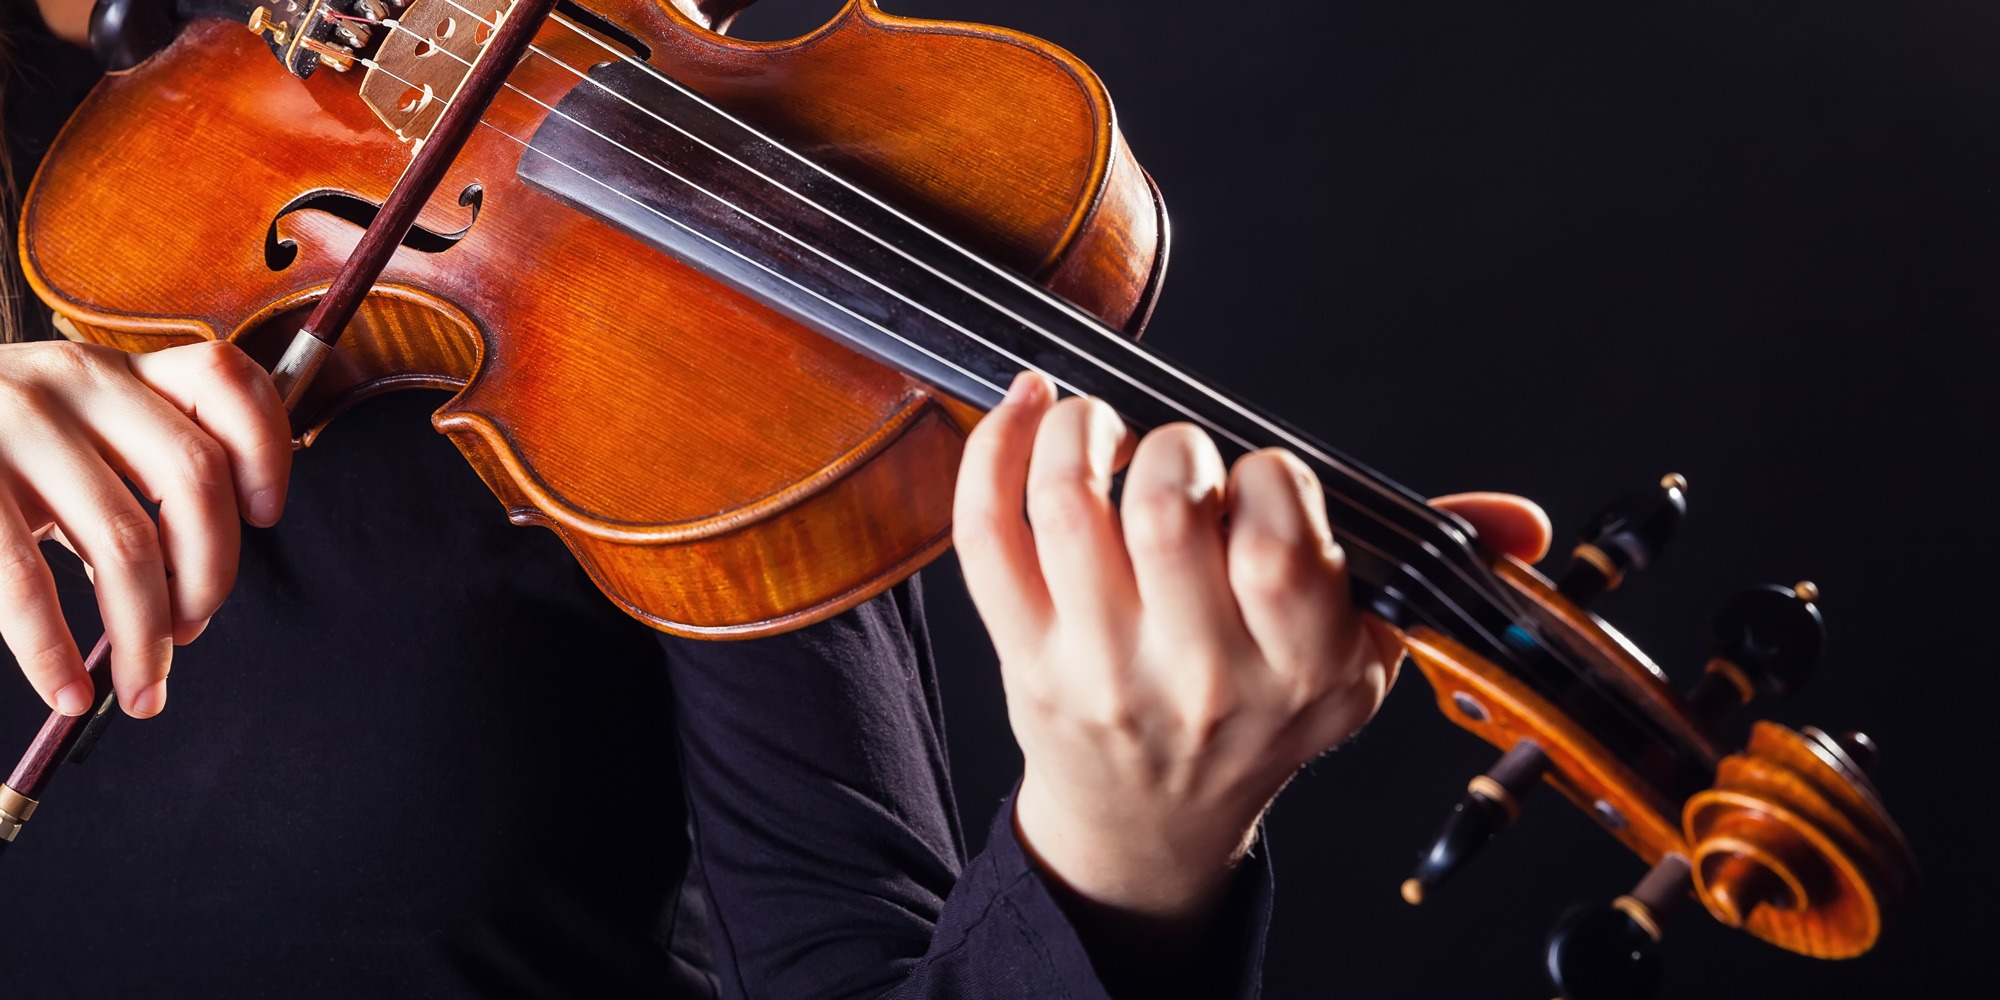Violin: (1, 46, 1948, 1000)
